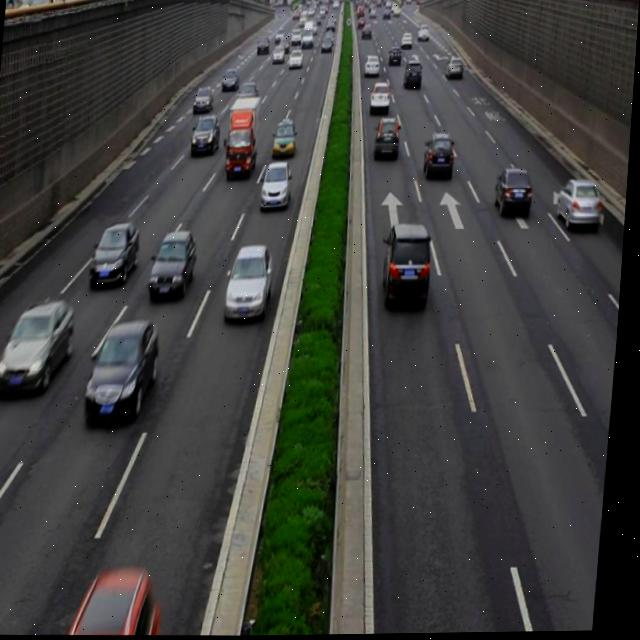bus: (227, 97, 263, 177)
car: (87, 319, 165, 421), (0, 296, 79, 394), (384, 222, 436, 307), (227, 244, 277, 319), (152, 228, 201, 299), (92, 221, 144, 285), (558, 175, 605, 231), (495, 166, 534, 221), (423, 131, 458, 179), (262, 159, 294, 209), (191, 113, 221, 153), (375, 116, 401, 158), (272, 119, 299, 156), (369, 80, 392, 113), (194, 84, 215, 113)
